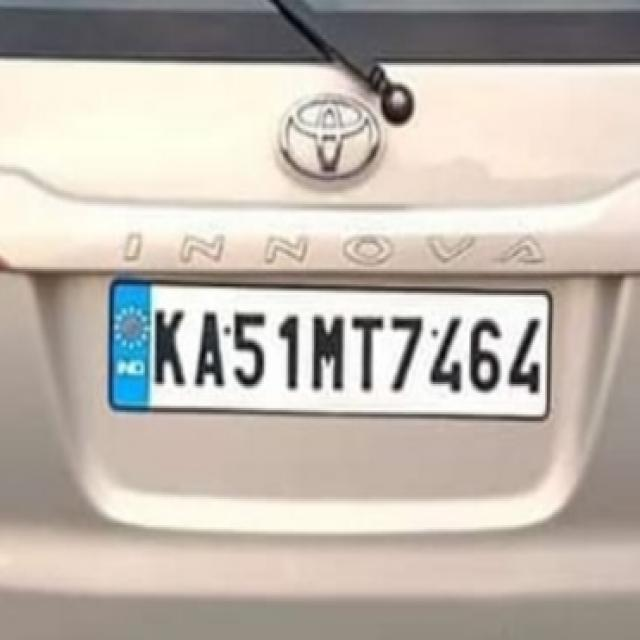1: (276, 304, 305, 396)
4: (427, 313, 466, 400), (506, 311, 542, 399)
5: (231, 296, 272, 391)
6: (467, 314, 505, 400)
7: (390, 308, 426, 391)
A: (188, 302, 230, 392)
K: (150, 302, 190, 398)
M: (310, 301, 348, 397)
T: (351, 302, 384, 392)
